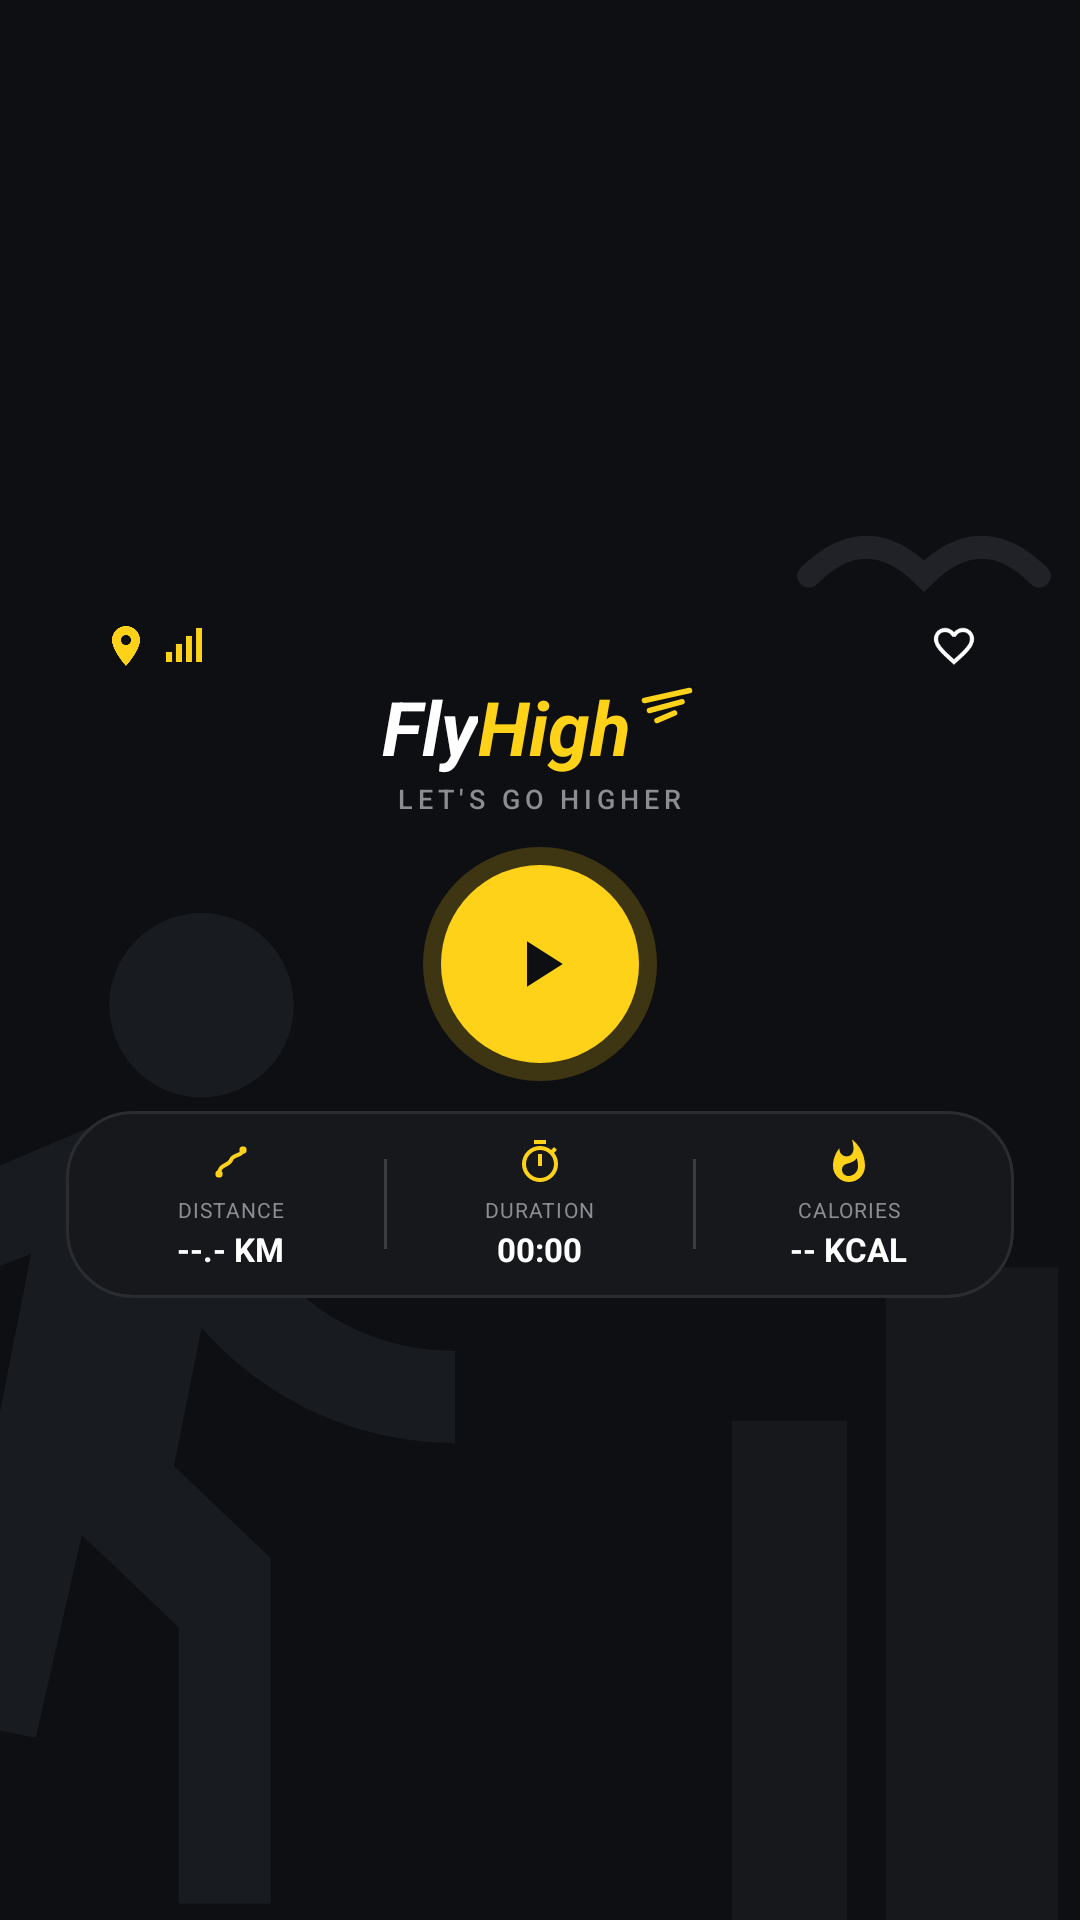

Where to tap for icons on this 1080x1920 app screen, as point (x, y):
flame: point (849, 1160)
Frequencia cardiaca: point (954, 646)
Iniciar corrida: point (540, 964)
Localizacao: point (126, 646)
route: point (231, 1162)
Sinal de GPS: point (184, 645)
timer: point (540, 1161)
wing: point (667, 705)
